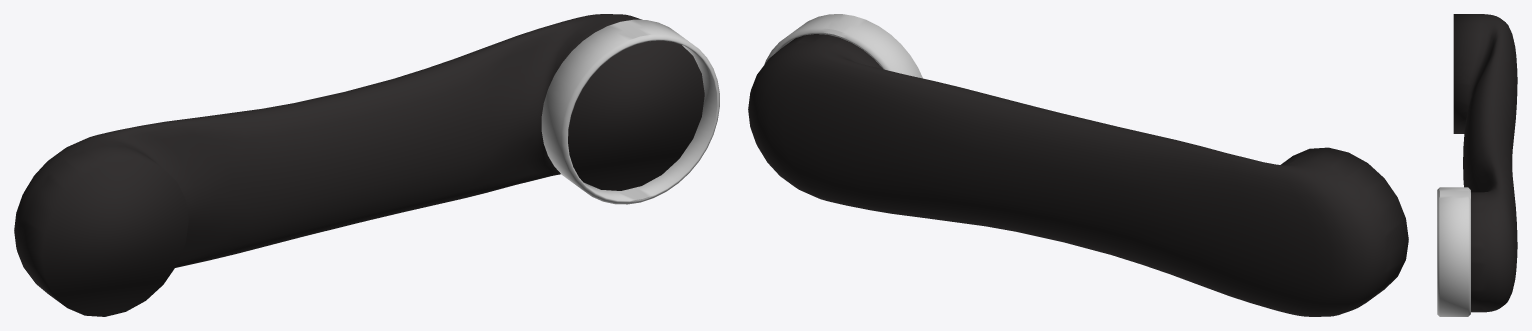
File: mico_link_2.dae
3 views of the same model, side by side, from view 1: azimuth 30°, elevation 25°; view 2: azimuth 150°, elevation 25°; view 3: azimuth 270°, elevation 25° (orthographic). The views are drawn at different scales.
Visible parts, largest first — view 1: Mico_very_simplified_-_Link_-_Arm_Mico-1, Shoulder_Ring_Link; view 2: Mico_very_simplified_-_Link_-_Arm_Mico-1, Shoulder_Ring_Link; view 3: Mico_very_simplified_-_Link_-_Arm_Mico-1, Shoulder_Ring_Link.
Boxes of the visible parts, x1=… form: Mico_very_simplified_-_Link_-_Arm_Mico-1: x1=14, y1=14, x2=704, y2=316; Shoulder_Ring_Link: x1=541, y1=19, x2=719, y2=204; Mico_very_simplified_-_Link_-_Arm_Mico-1: x1=748, y1=34, x2=1408, y2=316; Shoulder_Ring_Link: x1=764, y1=14, x2=922, y2=78; Mico_very_simplified_-_Link_-_Arm_Mico-1: x1=1453, y1=14, x2=1517, y2=312; Shoulder_Ring_Link: x1=1437, y1=187, x2=1470, y2=316.
Bounding box in the file's own units: 0.3755 × 0.0892 × 0.0551.
1 material, 1 textured.
